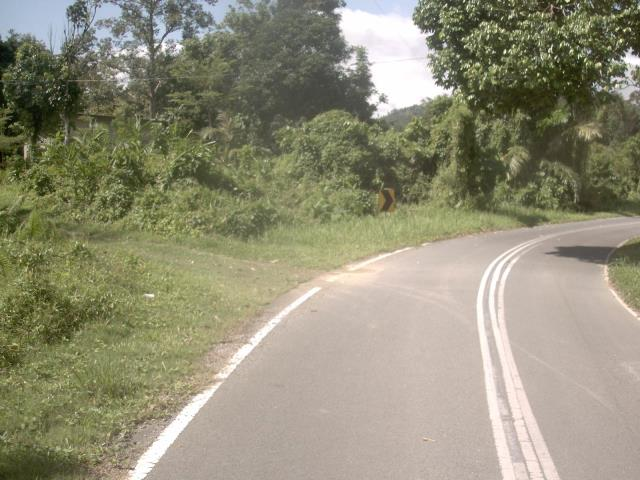traffic_sign: (370, 180, 404, 223)
